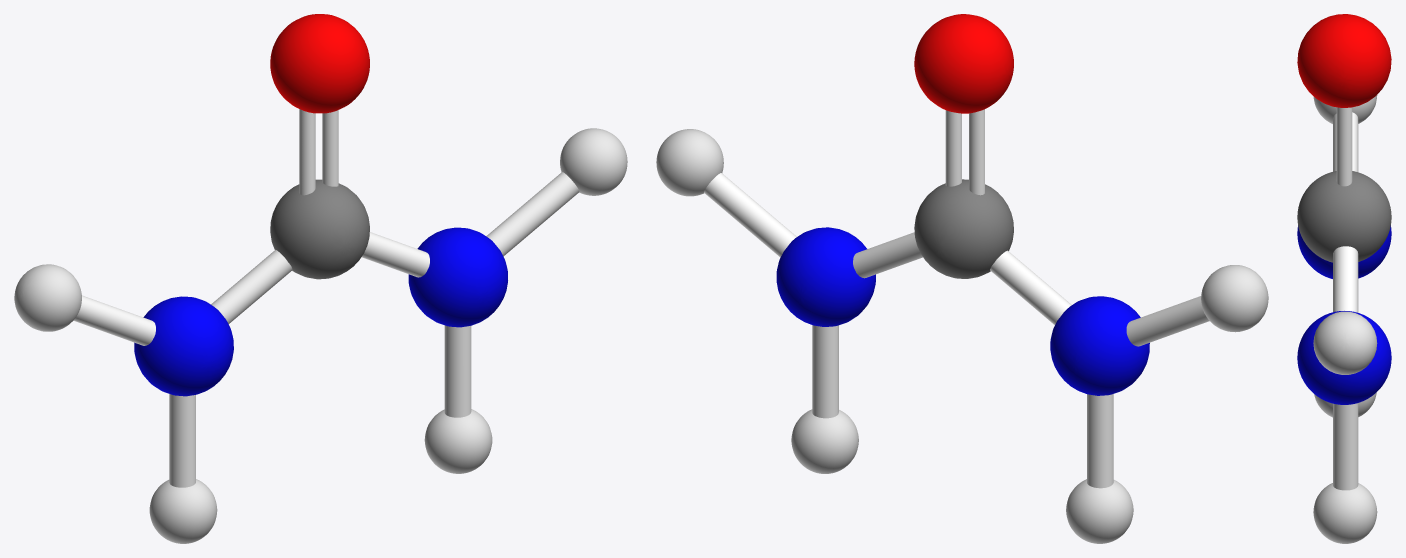
Rendered from Urea.dae.
The picture shows the model from 3 angles, left to right: view 1: azimuth 30°, elevation 25°; view 2: azimuth 150°, elevation 25°; view 3: azimuth 270°, elevation 25°; orthographic projection. The views are drawn at different scales.
Parts seen in each view (by area): view 1: Urea__Methane_Import_pSphere7, Urea_Urea, Urea__Methane_Import_pSphere6, Urea__Methane_Import_pSphere8, Urea__Ammonia__Methane_Import_pSphere7, Urea__Ammonia__Methane_Import_pSphere6, Urea__Ammonia__Methane_Import_pSphere5, Urea__Ammonia__Methane_Import_pSphere8, Urea__Ammonia__Methane_Import_pCylinder7, Urea__Ammonia__Methane_Import_pCylinder6, Urea__Ammonia__Methane_Import_pCylinder10, Urea__Ammonia__Methane_Import_pCylinder8 (+4 smaller); view 2: Urea__Methane_Import_pSphere7, Urea_Urea, Urea__Methane_Import_pSphere8, Urea__Methane_Import_pSphere6, Urea__Ammonia__Methane_Import_pSphere7, Urea__Ammonia__Methane_Import_pSphere6, Urea__Ammonia__Methane_Import_pSphere5, Urea__Ammonia__Methane_Import_pSphere8, Urea__Ammonia__Methane_Import_pCylinder7, Urea__Ammonia__Methane_Import_pCylinder10, Urea__Ammonia__Methane_Import_pCylinder6, Urea__Ammonia__Methane_Import_pCylinder8 (+4 smaller); view 3: Urea__Methane_Import_pSphere7, Urea_Urea, Urea__Methane_Import_pSphere6, Urea__Ammonia__Methane_Import_pSphere6, Urea__Ammonia__Methane_Import_pSphere5, Urea__Ammonia__Methane_Import_pCylinder6, Urea__Ammonia__Methane_Import_pCylinder5, Urea_pCylinder4, Urea__Methane_Import_pSphere8, Urea__Ammonia__Methane_Import_pSphere7, Urea__Ammonia__Methane_Import_pCylinder9, Urea__Ammonia__Methane_Import_pSphere8.
Boxes of the visible parts, x1,y1,x2,y2 form: Urea__Methane_Import_pSphere7: (270, 14, 369, 113); Urea_Urea: (270, 179, 369, 279); Urea__Methane_Import_pSphere6: (408, 227, 507, 327); Urea__Methane_Import_pSphere8: (134, 296, 233, 396); Urea__Ammonia__Methane_Import_pSphere7: (14, 264, 81, 331); Urea__Ammonia__Methane_Import_pSphere6: (560, 128, 627, 195); Urea__Ammonia__Methane_Import_pSphere5: (424, 409, 492, 473); Urea__Ammonia__Methane_Import_pSphere8: (149, 479, 217, 543); Urea__Ammonia__Methane_Import_pCylinder7: (486, 172, 579, 256); Urea__Ammonia__Methane_Import_pCylinder6: (444, 325, 471, 417); Urea__Ammonia__Methane_Import_pCylinder10: (169, 394, 195, 487); Urea__Ammonia__Methane_Import_pCylinder8: (211, 249, 292, 323); Urea__Methane_Import_pSphere7: (914, 14, 1013, 113); Urea_Urea: (914, 179, 1013, 278); Urea__Methane_Import_pSphere8: (1050, 296, 1149, 395); Urea__Methane_Import_pSphere6: (776, 227, 875, 326); Urea__Ammonia__Methane_Import_pSphere7: (1201, 265, 1268, 332); Urea__Ammonia__Methane_Import_pSphere6: (656, 129, 723, 196); Urea__Ammonia__Methane_Import_pSphere5: (791, 409, 858, 473); Urea__Ammonia__Methane_Import_pSphere8: (1066, 479, 1133, 543); Urea__Ammonia__Methane_Import_pCylinder7: (704, 173, 796, 257); Urea__Ammonia__Methane_Import_pCylinder10: (1087, 394, 1113, 488); Urea__Ammonia__Methane_Import_pCylinder6: (812, 325, 838, 418); Urea__Ammonia__Methane_Import_pCylinder8: (990, 250, 1071, 324); Urea__Methane_Import_pSphere7: (1297, 14, 1391, 107); Urea_Urea: (1297, 171, 1391, 262); Urea__Methane_Import_pSphere6: (1297, 311, 1391, 404); Urea__Ammonia__Methane_Import_pSphere6: (1313, 311, 1377, 374); Urea__Ammonia__Methane_Import_pSphere5: (1313, 483, 1377, 543); Urea__Ammonia__Methane_Import_pCylinder6: (1333, 403, 1358, 490); Urea__Ammonia__Methane_Import_pCylinder5: (1333, 246, 1358, 312); Urea_pCylinder4: (1336, 107, 1352, 186); Urea__Methane_Import_pSphere8: (1297, 225, 1391, 278); Urea__Ammonia__Methane_Import_pSphere7: (1313, 95, 1377, 123); Urea__Ammonia__Methane_Import_pCylinder9: (1333, 112, 1358, 171); Urea__Ammonia__Methane_Import_pSphere8: (1314, 392, 1376, 417).
Bounding box in the file's own units: 3.6 × 0.5159 × 2.79.
